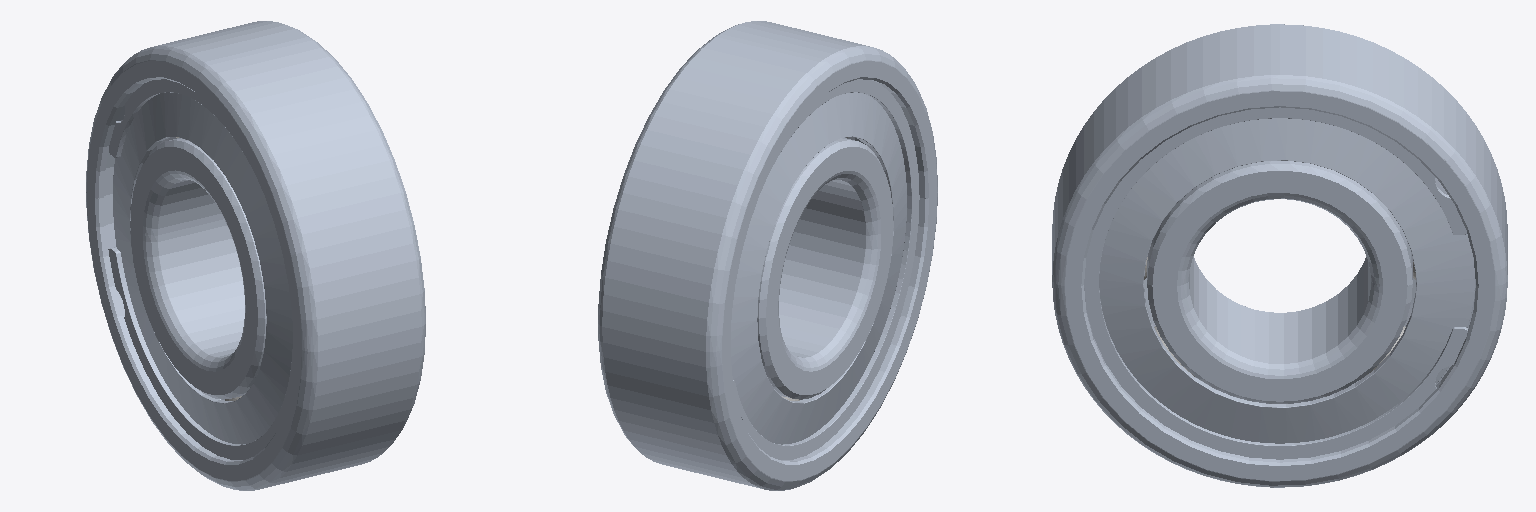
3 renders of one model, left to right at view 1: azimuth 30°, elevation 25°; view 2: azimuth 150°, elevation 25°; view 3: azimuth 270°, elevation 25°, orthographic.
Visible parts, largest first — view 1: rx_8020x_13, rx_8020x_10, rx_8020x_11, rx_8020x_5; view 2: rx_8020x_13, rx_8020x_10, rx_8020x_11, rx_8020x_5; view 3: rx_8020x_13, rx_8020x_4, rx_8020x_10, rx_8020x_7.
Boxes of the visible parts, x1,y1,x2,y2 form: rx_8020x_13: [86, 21, 425, 490]; rx_8020x_10: [130, 138, 266, 399]; rx_8020x_11: [113, 92, 292, 444]; rx_8020x_5: [108, 79, 292, 459]; rx_8020x_13: [598, 21, 937, 490]; rx_8020x_10: [757, 138, 893, 399]; rx_8020x_11: [731, 92, 906, 444]; rx_8020x_5: [733, 79, 919, 459]; rx_8020x_13: [1052, 24, 1507, 487]; rx_8020x_4: [1099, 118, 1474, 443]; rx_8020x_10: [1147, 161, 1412, 403]; rx_8020x_7: [1084, 107, 1467, 459].
Bounding box in the file's own units: 4.98 × 15.88 × 15.88.